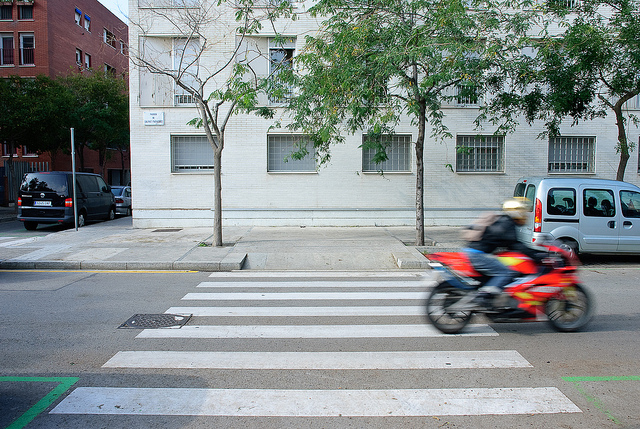Car: (15, 163, 117, 222)
Zebra Crossing: (188, 267, 397, 429)
